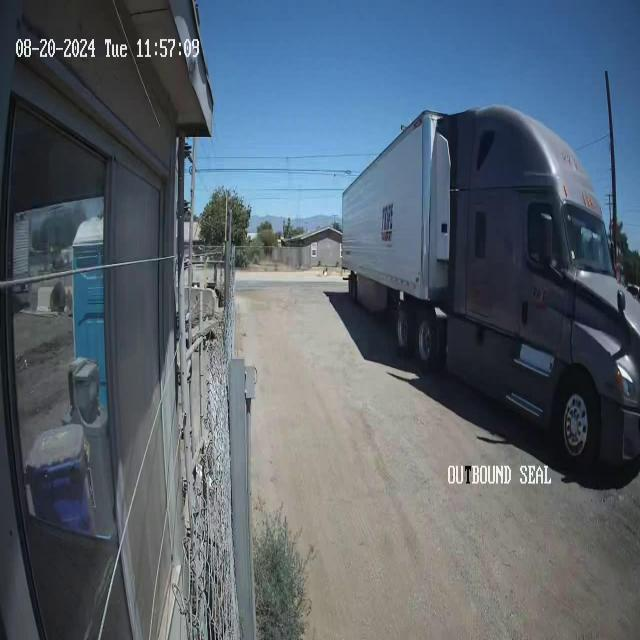TRUCK_IN: (339, 103, 639, 474)
